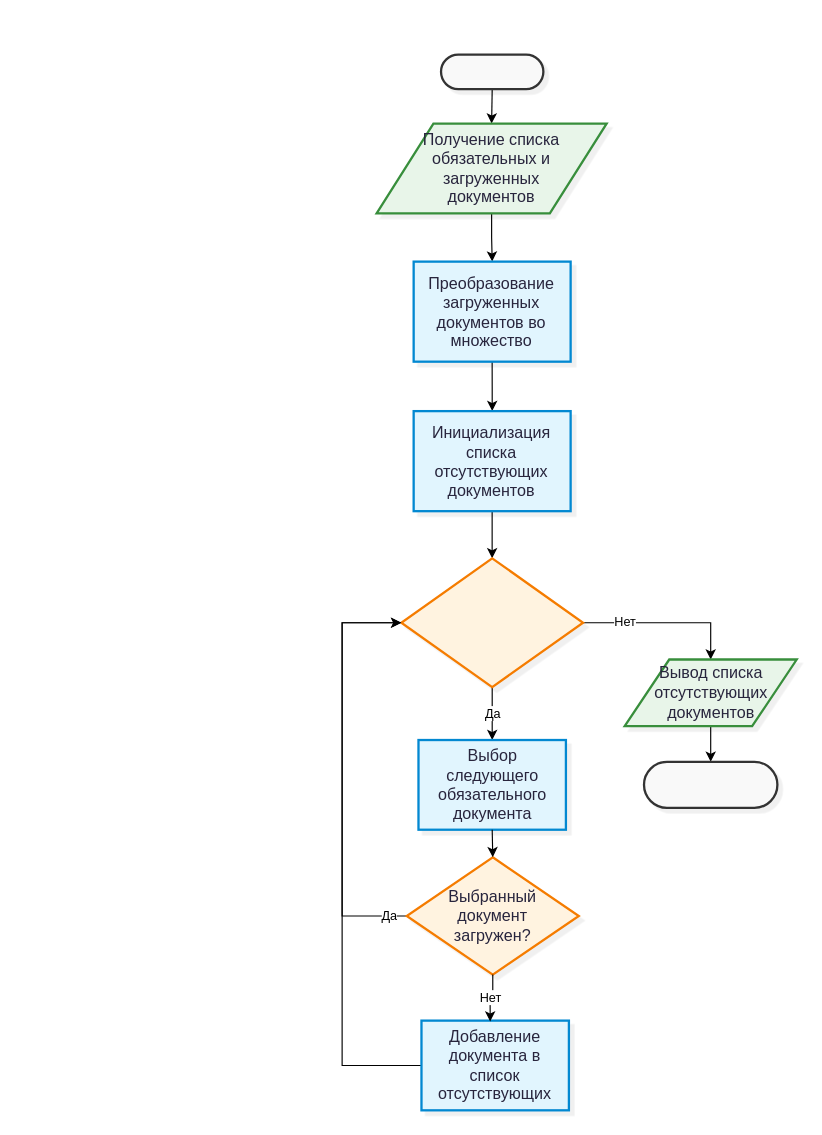
Image size: 822x1135. Some labels were removed from this diagram. Here are the shapes that lost their labels. From the top down, the centre of each, then its label:
[494,73]: Начало
[494,624]: Остались непроверенные обязательные документы?
[712,786]: Конец
